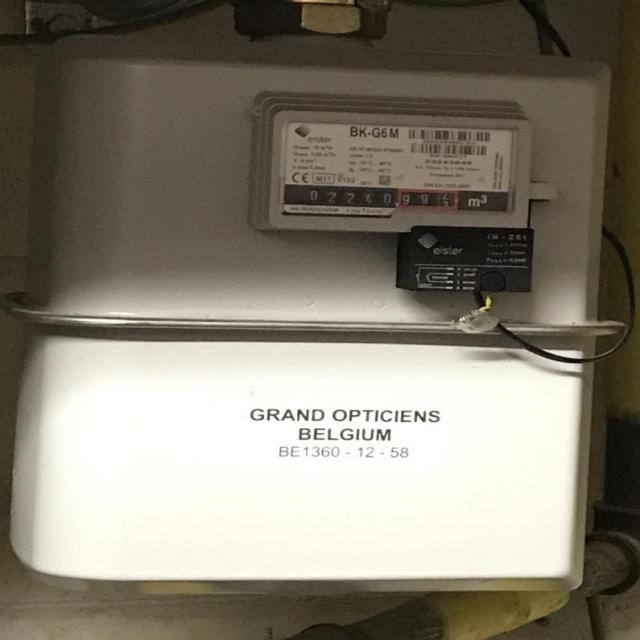gaz_meter: (279, 115, 515, 215)
indication: (284, 185, 461, 211)
